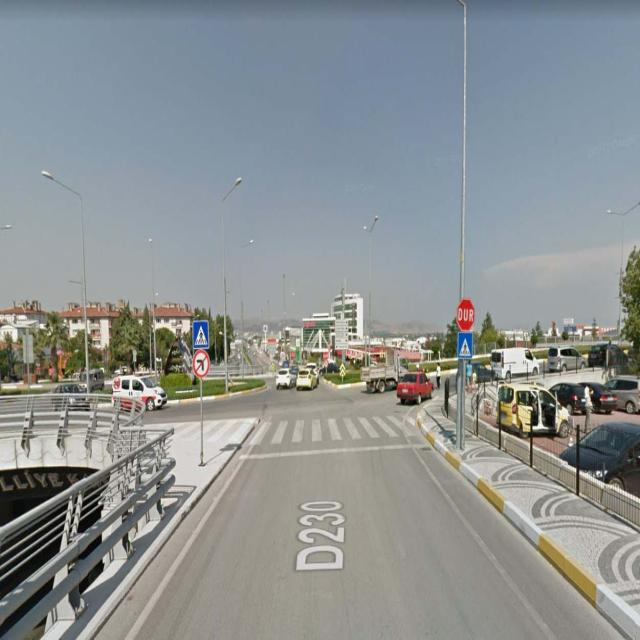dur: (456, 299, 474, 333)
soladonulmez: (192, 350, 208, 377)
